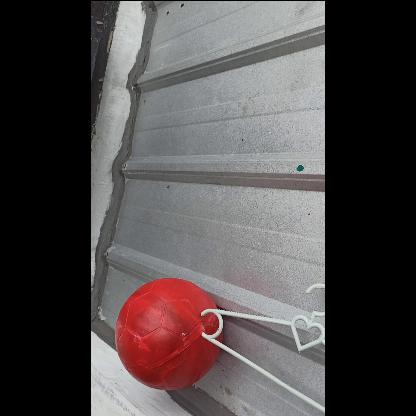red_ball: (113, 276, 225, 388)
